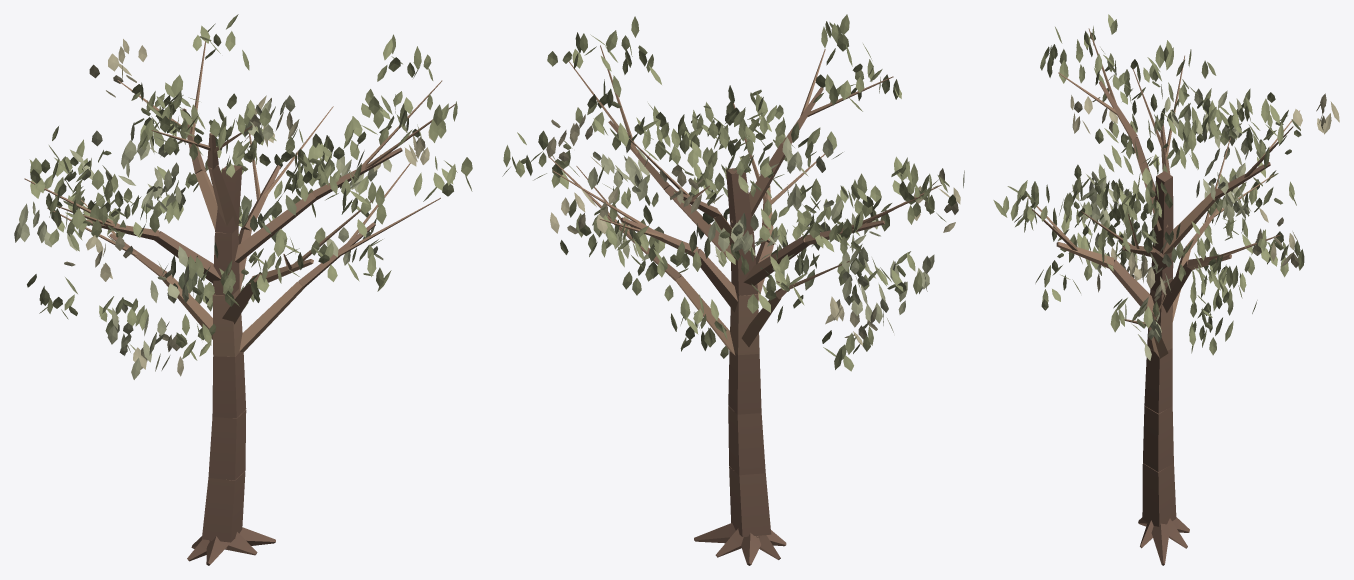
File: tree_3d_05.glb
The picture shows the model from 3 angles, left to right: view 1: azimuth 30°, elevation 25°; view 2: azimuth 150°, elevation 25°; view 3: azimuth 270°, elevation 25°; orthographic projection. The views are drawn at different scales.
Visible parts, largest first — view 1: tree_3d_05_foliage, tree_3d_05_wood; view 2: tree_3d_05_foliage, tree_3d_05_wood; view 3: tree_3d_05_foliage, tree_3d_05_wood.
Boxes of the visible parts, x1,y1,x2,y2 form: tree_3d_05_foliage: (14, 14, 472, 379); tree_3d_05_wood: (24, 41, 455, 565); tree_3d_05_foliage: (502, 14, 964, 371); tree_3d_05_wood: (549, 45, 940, 565); tree_3d_05_foliage: (993, 14, 1339, 360); tree_3d_05_wood: (1027, 28, 1299, 565).
Size of the model in its own units: 12.5 by 14.5 by 9.2.
